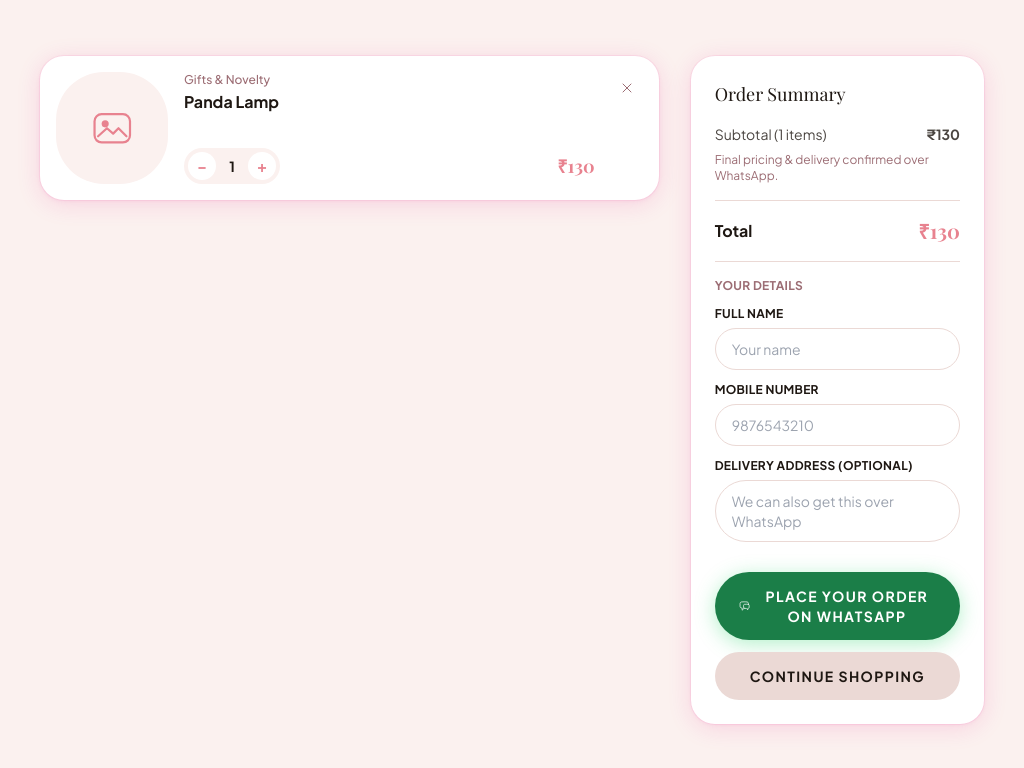
it: CartClient › decreases quantity down to removing the item entirely once it hits zero
Expected: the link "Panda Lamp" is shown, [184, 91, 279, 112]
Step 1. Click the button named "Decrease quantity" → click(202, 166), box [188, 152, 216, 180]
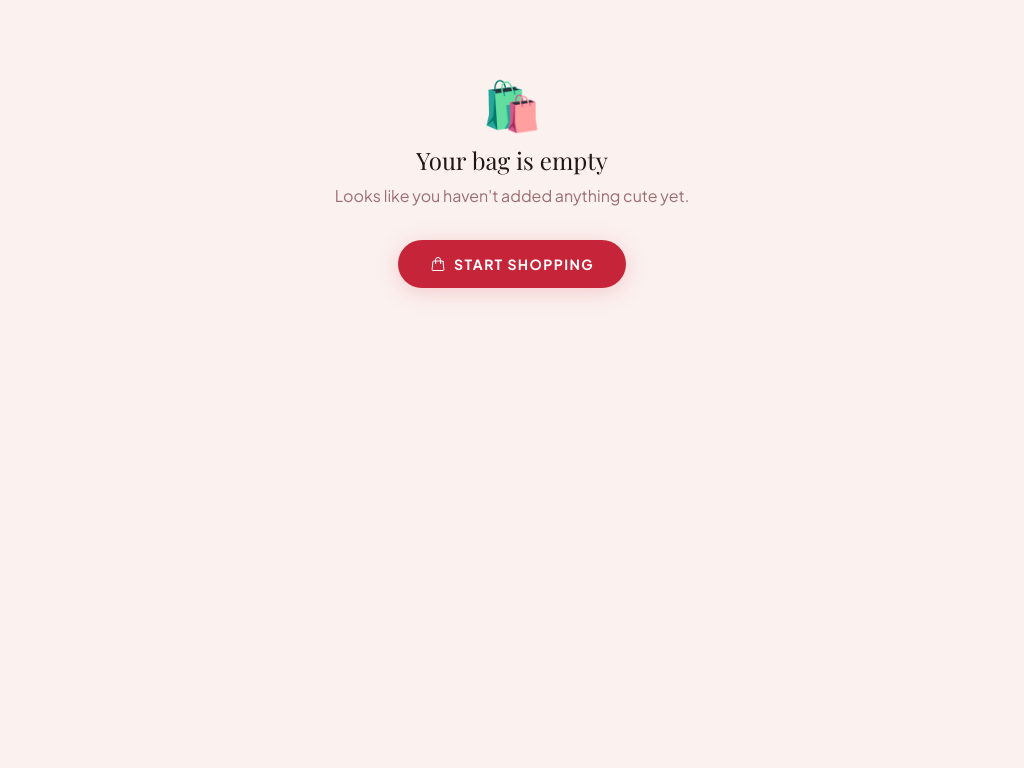
Now the heading "Your bag is empty" is shown, box [416, 144, 608, 176]
